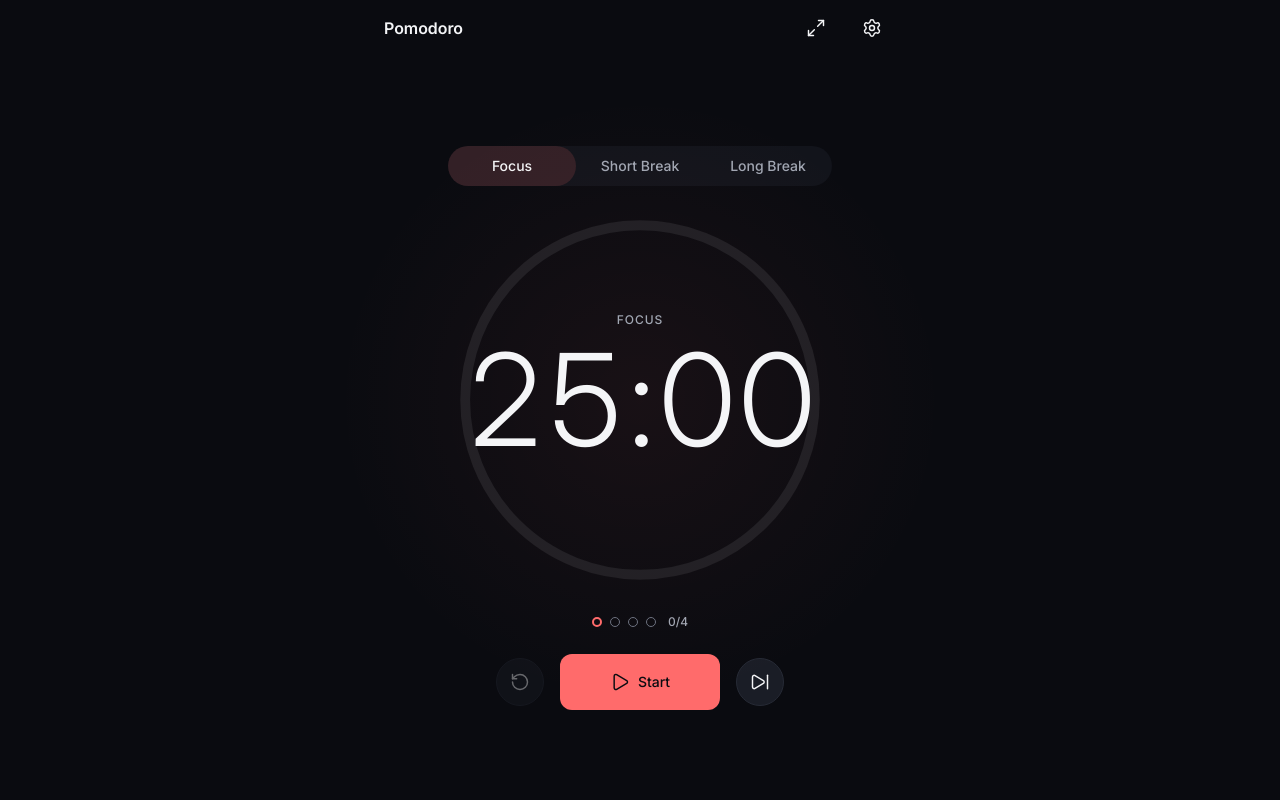
SettingsSheet (POMO-AC11-POMO-AC13, POMO-AC24, POMO-AC26) › rejects  in Focus on Save: error shown, nothing written
The image size is (1280, 800).
Step 1. Click the button named "Open settings" → {"x": 872, "y": 28}, box [848, 4, 896, 52]
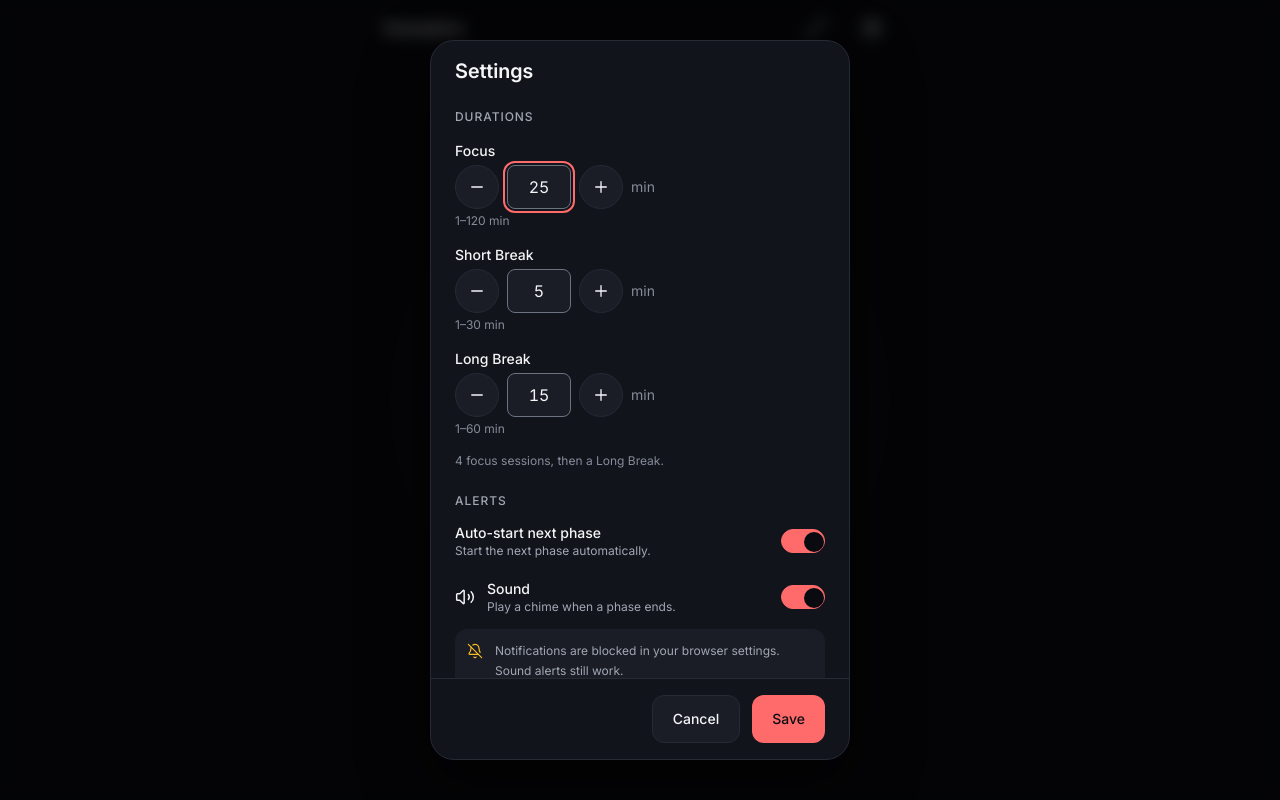
Step 2. Clear the field labelled "Focus" → {"x": 539, "y": 187}, box [507, 165, 571, 209]
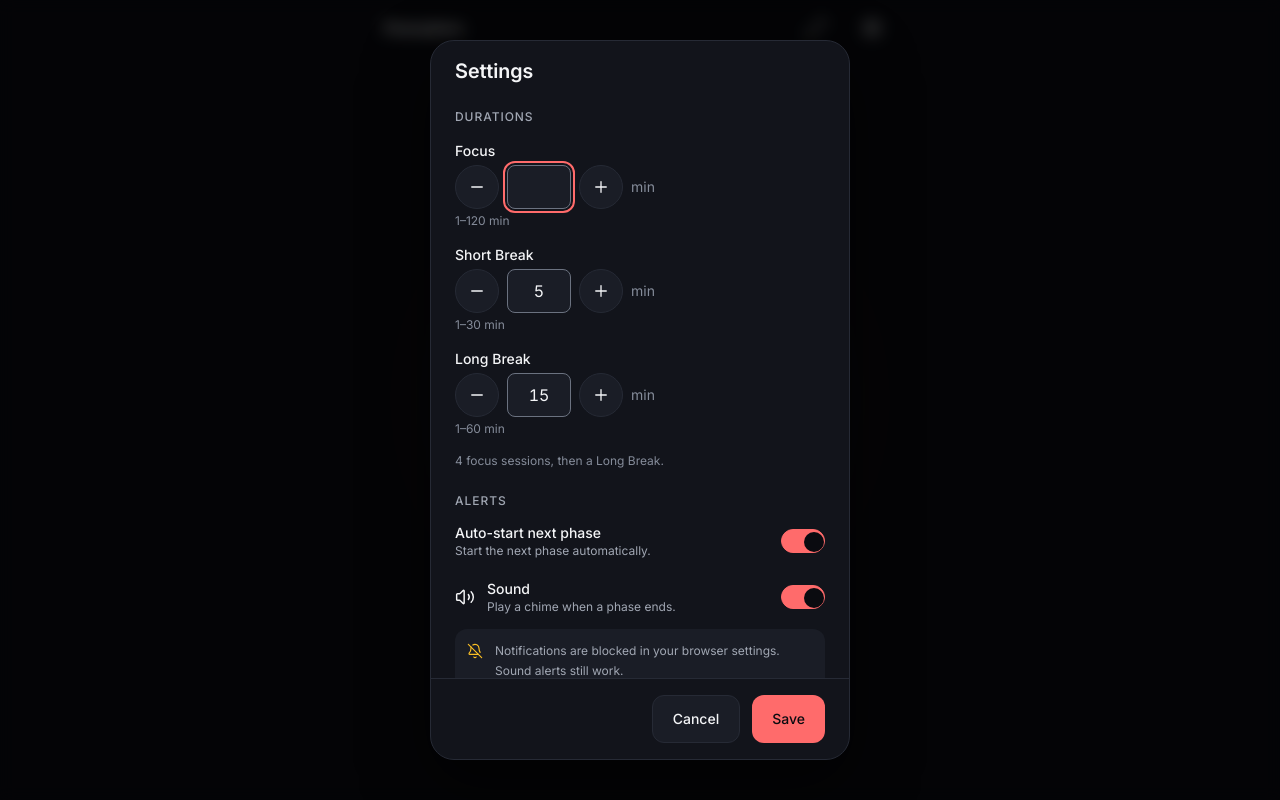
Step 3. Click the button "Save" → {"x": 789, "y": 719}, box [752, 695, 825, 743]
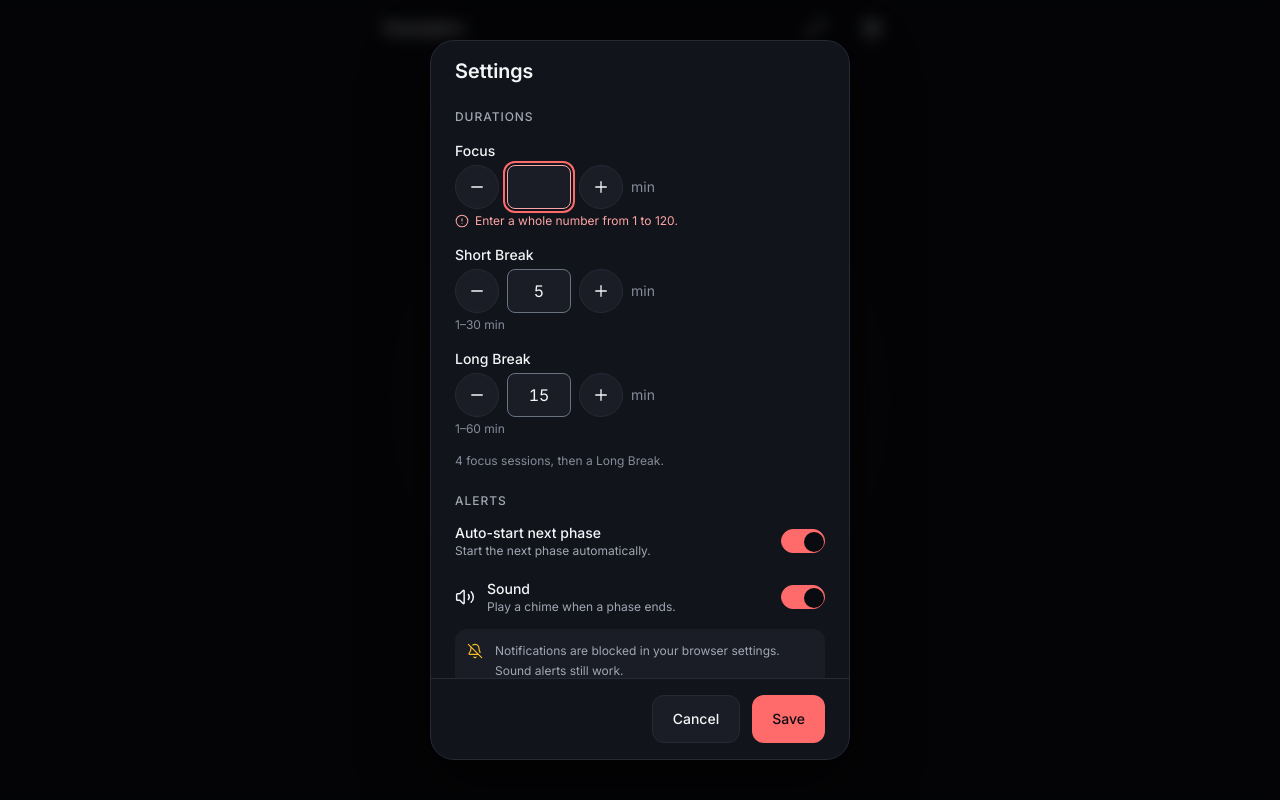
Expected: the text "25:00" is shown, [464, 336, 816, 464]
Result: the dialog is shown at [430, 40, 850, 760]
Result: the text "Enter a whole number from 1 to 120." is shown at [455, 213, 678, 228]
